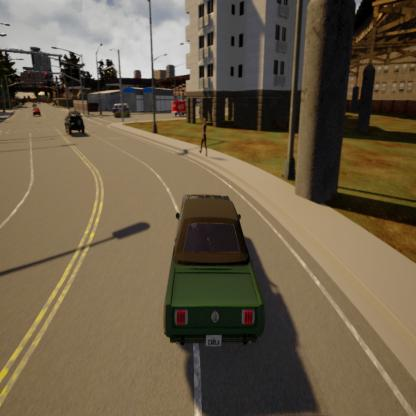Cars: (164, 195, 264, 348), (64, 111, 85, 136), (172, 99, 186, 117), (112, 102, 129, 114), (115, 106, 130, 118), (32, 106, 40, 116)
Pedestrian: (199, 116, 208, 158)
